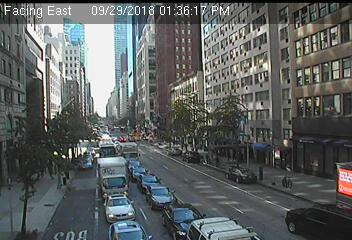car: (284, 204, 352, 240), (186, 217, 260, 240), (162, 203, 205, 240), (95, 157, 130, 199), (104, 195, 136, 222), (107, 221, 150, 240), (145, 184, 177, 209), (224, 167, 257, 186), (114, 142, 140, 166), (136, 173, 162, 192), (97, 142, 117, 165), (128, 166, 147, 182), (127, 160, 144, 174), (181, 151, 200, 163), (82, 158, 92, 171), (167, 148, 181, 156), (83, 152, 92, 162)
